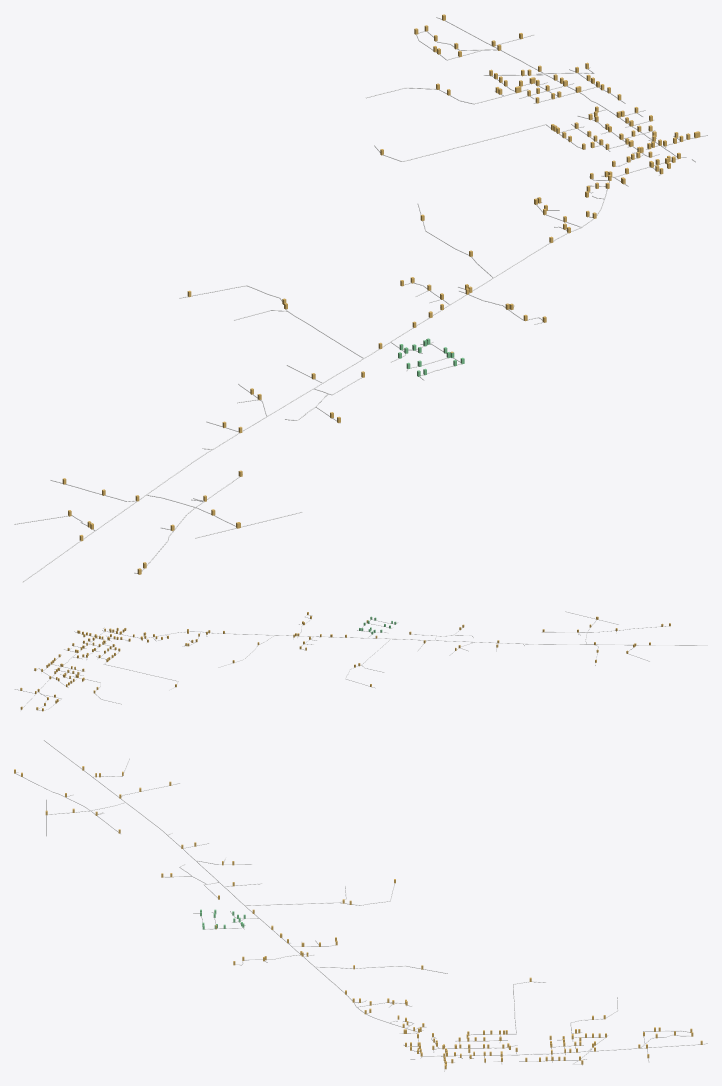
3 renders of one model, top to bottom at view 1: azimuth 30°, elevation 25°; view 2: azimuth 150°, elevation 25°; view 3: azimuth 270°, elevation 25°, orthographic. The views are drawn at different scales.
Parts seen in each view (by area): view 1: FeederNetwork.001; view 2: FeederNetwork.001; view 3: FeederNetwork.001.
Boxes of the visible parts, left/top/right/bottom form: FeederNetwork.001: left=14, top=17, right=707, bottom=582; FeederNetwork.001: left=14, top=611, right=707, bottom=711; FeederNetwork.001: left=15, top=740, right=707, bottom=1071.
Size of the model in its own units: 400 by 2.09 by 354.
